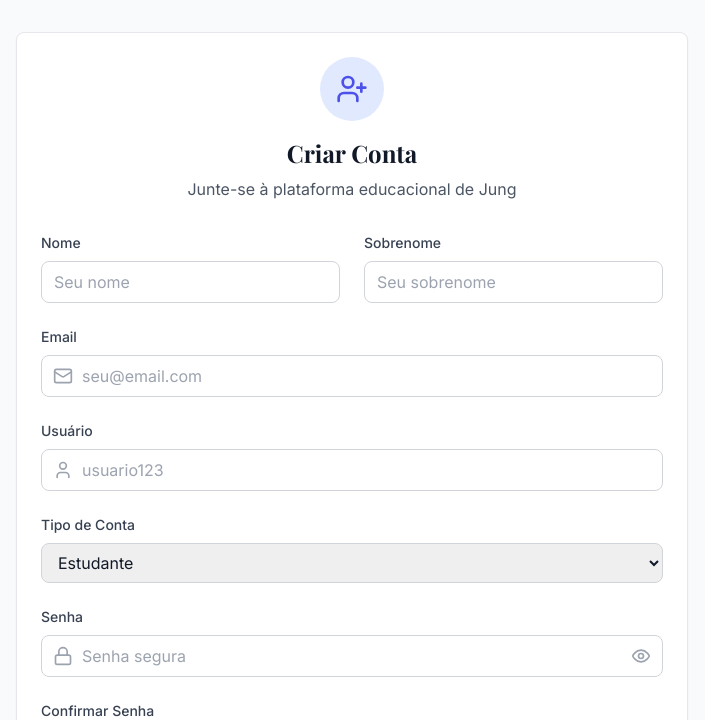
RegisterForm Component › Password Strength Indicator › should show password validation errors
In the password field labelled "Senha": [352, 656] box 41,635 -> 663,677, type "weak"
(page scrolled)
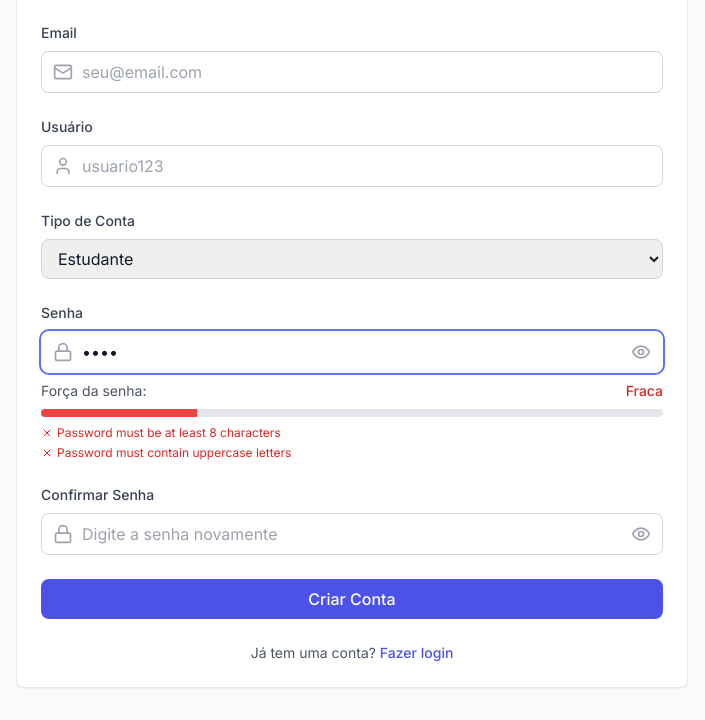
expect the text "Password must be at least 8 characters" is shown: met, box 57,425 -> 281,441
expect the text "Password must contain uppercase letters" is shown: met, box 57,445 -> 291,461
